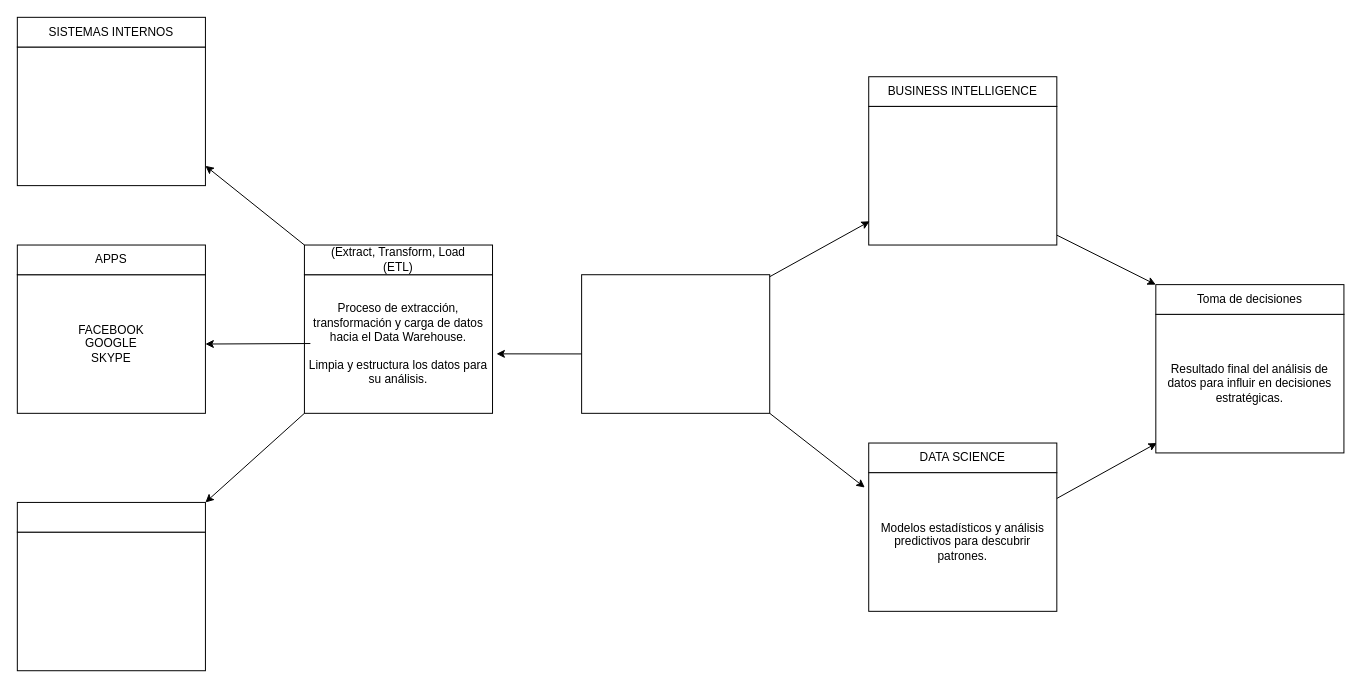
This 1361x688 diagram has some shape labels left out. Here are the shapes that lost their labels. From the top down, the centre of each, then its label:
At point 110,116: "CLIENTES COMPRAS TRANSACCIONES".
At point 962,175: "Generación de informes y análisis visuales para apoyar la toma de decisiones.".
At point 675,343: "DATA WAREHOUSE".
At point 110,516: "OTROS".
At point 110,601: "MICROSFOT CLOUD MAPS".
